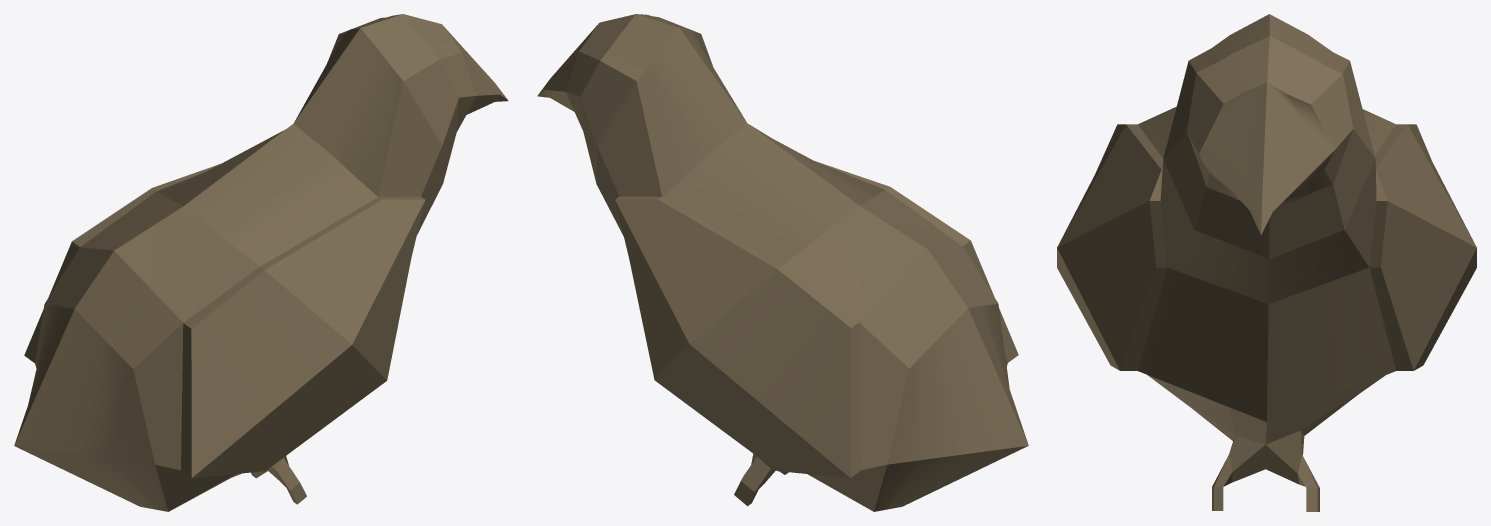
The model's file is WoodenBird_PlaceHolder.fbx.
The picture shows the model from 3 angles, left to right: view 1: azimuth 30°, elevation 25°; view 2: azimuth 150°, elevation 25°; view 3: azimuth 270°, elevation 25°; orthographic projection. The views are drawn at different scales.
Parts seen in each view (by area): view 1: pCylinder1; view 2: pCylinder1; view 3: pCylinder1.
Part boxes in pixels (x1,y1,x2,y2): pCylinder1: [14, 14, 508, 511]; pCylinder1: [537, 14, 1028, 511]; pCylinder1: [1057, 14, 1476, 511].
Bounding box in the file's own units: 99.21 × 85.5 × 58.52.
